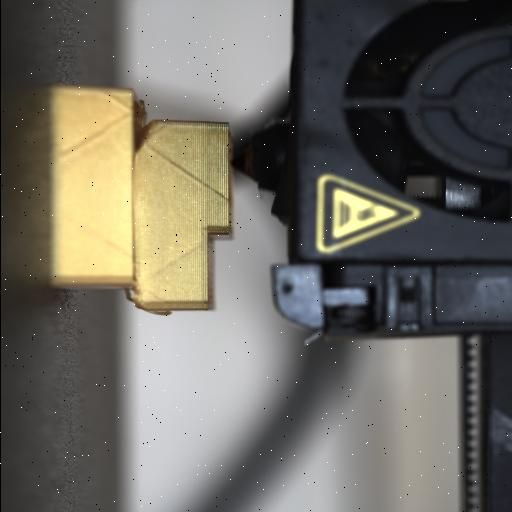layer_shift: (124, 86, 152, 312)
